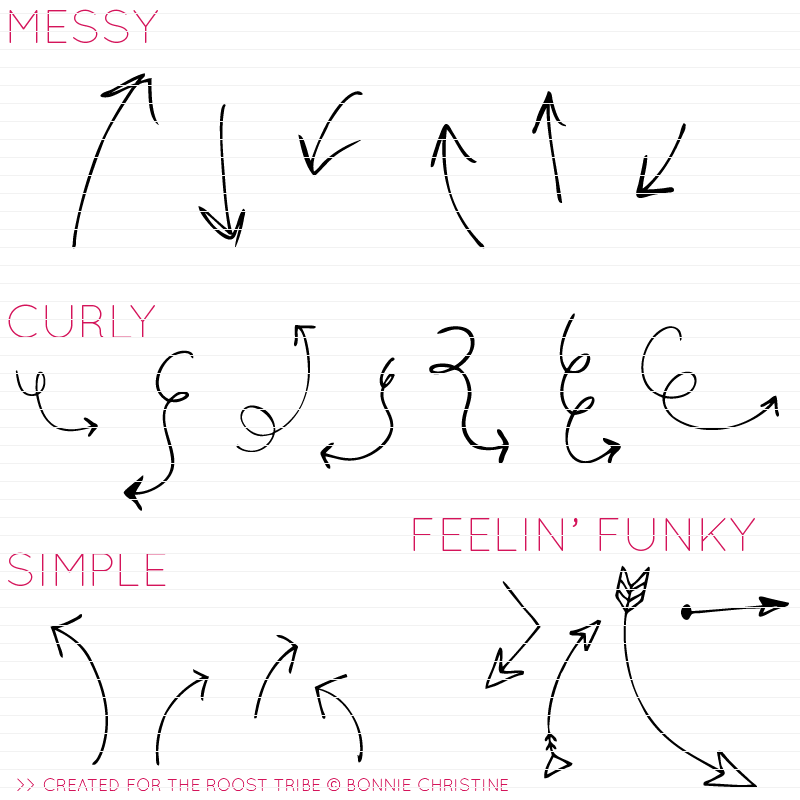arrow: (83, 70, 163, 195), (655, 735, 759, 792), (421, 120, 477, 225), (195, 150, 251, 252), (295, 102, 364, 180), (44, 608, 99, 686), (526, 89, 570, 183), (633, 136, 691, 201), (308, 669, 361, 740), (483, 626, 534, 694), (121, 462, 185, 515), (261, 629, 300, 715), (315, 436, 383, 477), (715, 591, 795, 624), (722, 390, 781, 433), (167, 666, 212, 721), (458, 428, 517, 467), (290, 321, 318, 402), (576, 434, 622, 473), (54, 407, 101, 440)
